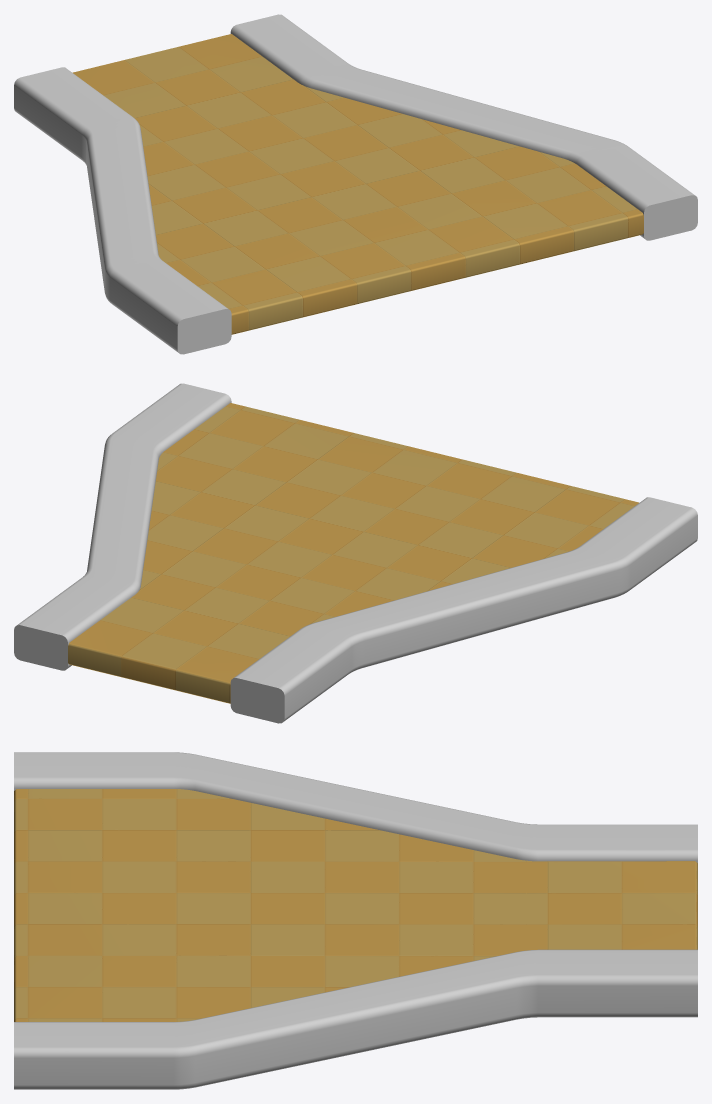
The model's file is TrapezoidGridFloor.fbx.
3 renders of one model, top to bottom at view 1: azimuth 30°, elevation 25°; view 2: azimuth 150°, elevation 25°; view 3: azimuth 270°, elevation 25°, orthographic. The views are drawn at different scales.
Visible parts, largest first — view 1: TrapezoidGridFloor; view 2: TrapezoidGridFloor; view 3: TrapezoidGridFloor.
Boxes of the visible parts, x1=… form: TrapezoidGridFloor: x1=14, y1=14, x2=697, y2=354; TrapezoidGridFloor: x1=14, y1=383, x2=697, y2=723; TrapezoidGridFloor: x1=14, y1=752, x2=697, y2=1089.
Size of the model in its own units: 1250 by 81.08 by 1200.
